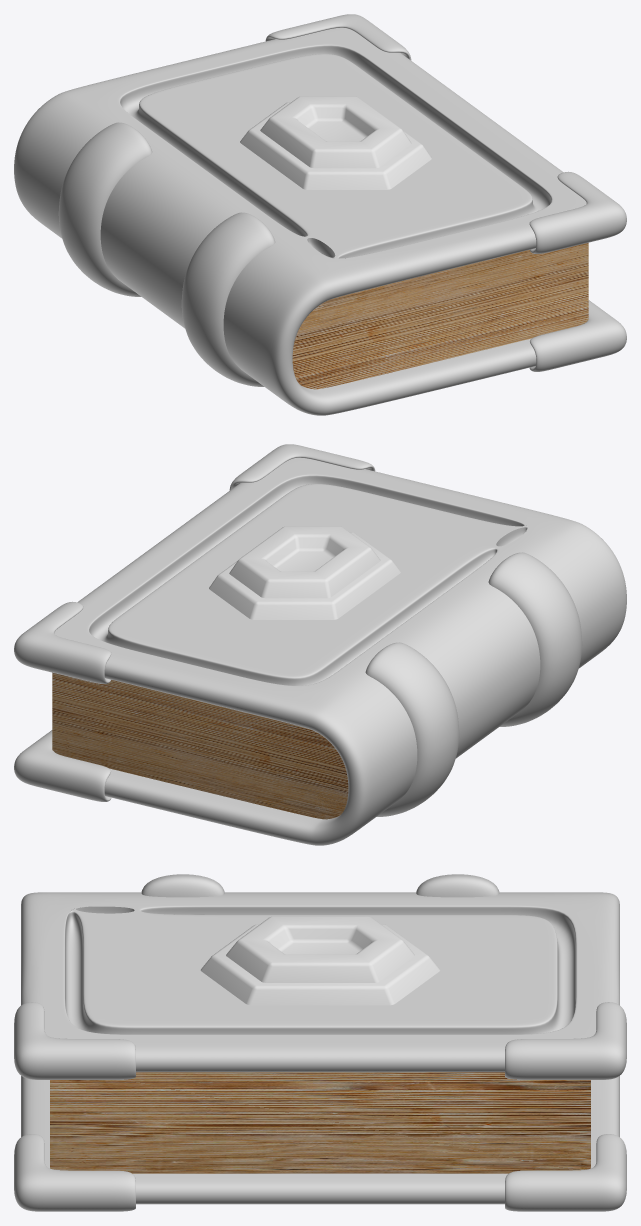
The model's file is Book2.fbx.
3 renders of one model, top to bottom at view 1: azimuth 30°, elevation 25°; view 2: azimuth 150°, elevation 25°; view 3: azimuth 270°, elevation 25°, orthographic. The views are drawn at different scales.
Visible parts, largest first — view 1: Pages.001, Pages, Pages.002, Cylinder.001, Pages.003; view 2: Pages.001, Pages, Pages.002, Cylinder.001, Pages.003; view 3: Pages.001, Pages, Pages.003, Cylinder.001, Pages.002.
Part boxes in pixels (<box>): Pages.001: <box>14,27,586,415</box>; Pages: <box>292,242,588,389</box>; Pages.002: <box>58,122,275,386</box>; Cylinder.001: <box>240,96,431,189</box>; Pages.003: <box>265,14,626,371</box>; Pages.001: <box>54,457,626,845</box>; Pages: <box>52,672,348,819</box>; Pages.002: <box>365,552,582,816</box>; Cylinder.001: <box>209,526,400,619</box>; Pages.003: <box>14,444,375,801</box>; Pages.001: <box>21,892,619,1204</box>; Pages: <box>50,1072,590,1173</box>; Pages.003: <box>14,1002,626,1211</box>; Cylinder.001: <box>200,916,440,1005</box>; Pages.002: <box>141,874,499,897</box>.
Bounding box in the file's own units: 449 × 208 × 582.
2 materials, 1 textured.
